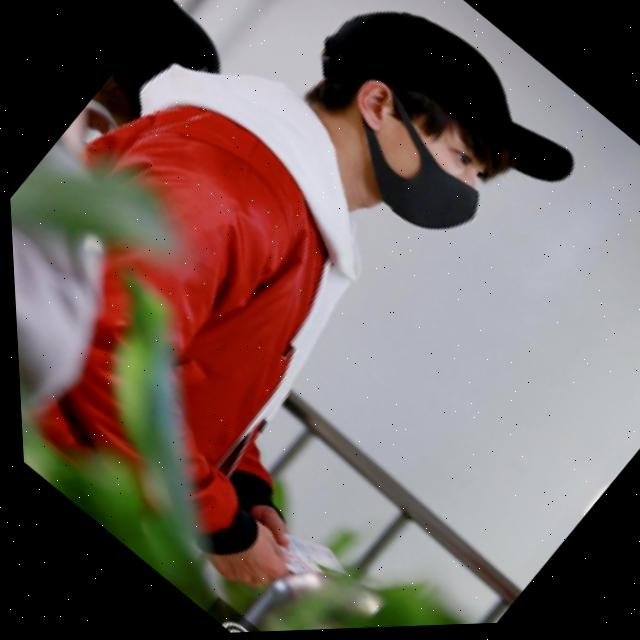Mask: (305, 73, 502, 262)
